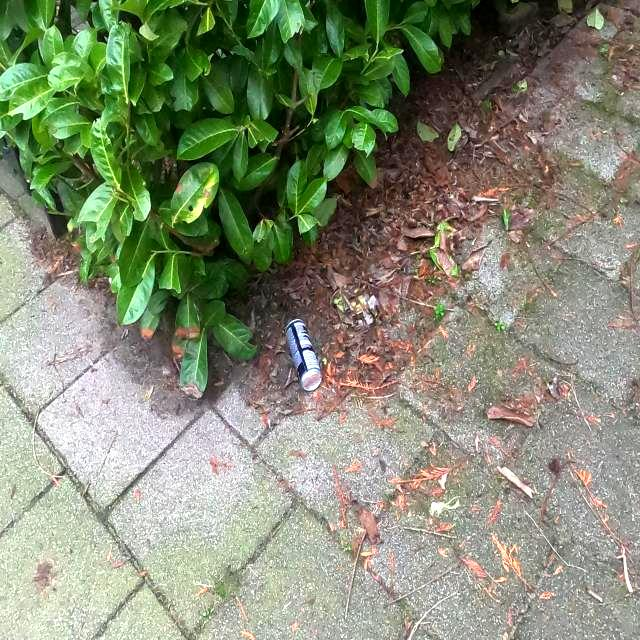Metal: (284, 317, 322, 391)
